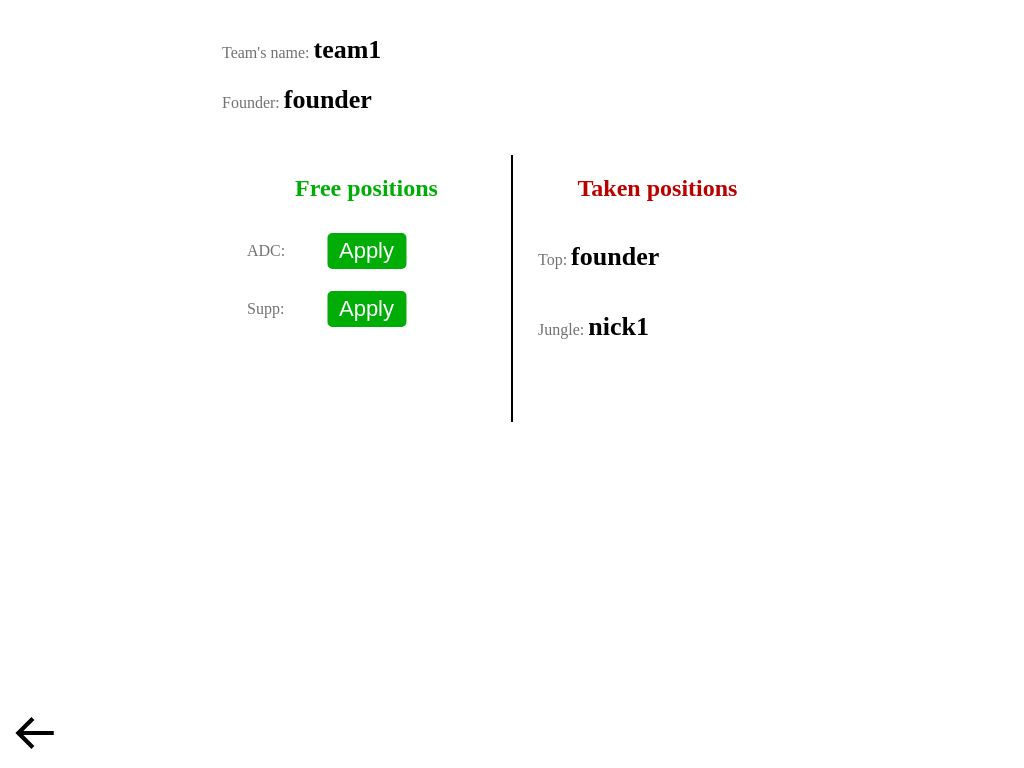
it: Team component › send application to the team
What coordinates should you click on to do the following:
click the button with test id "SuppApplyButton"
I would click on:
 (366, 309)
Its box is left=327, top=291, right=406, bottom=327.
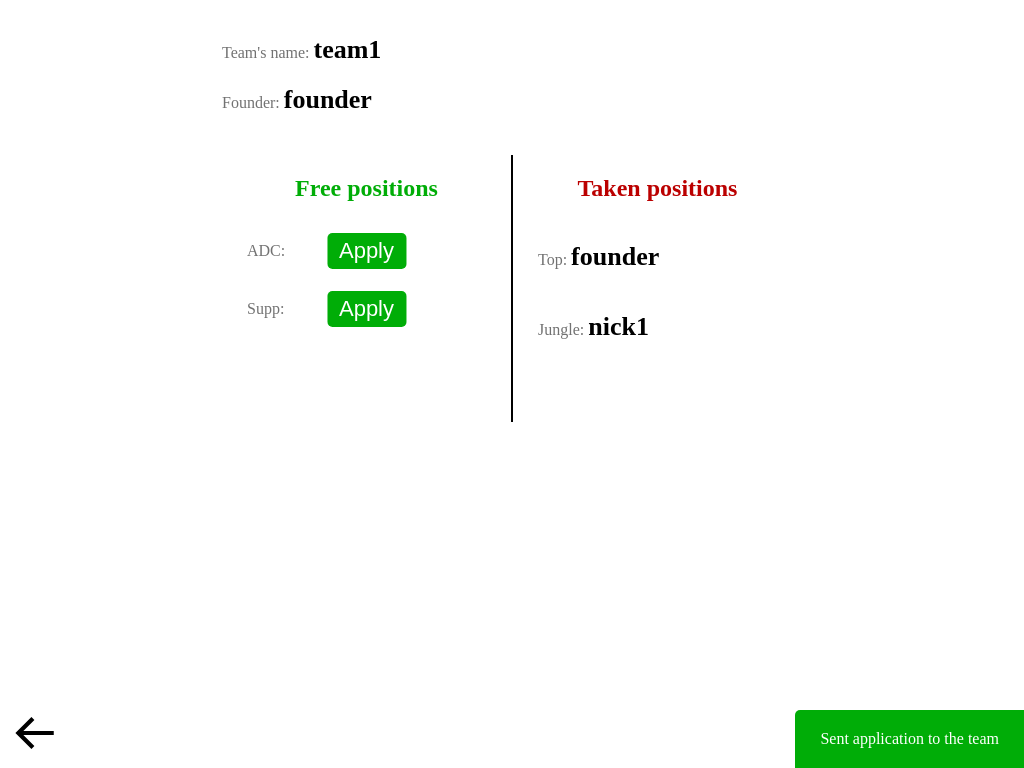
Now the element with test id "infoModal" reads "Sent application to the team", box left=820, top=730, right=999, bottom=747
